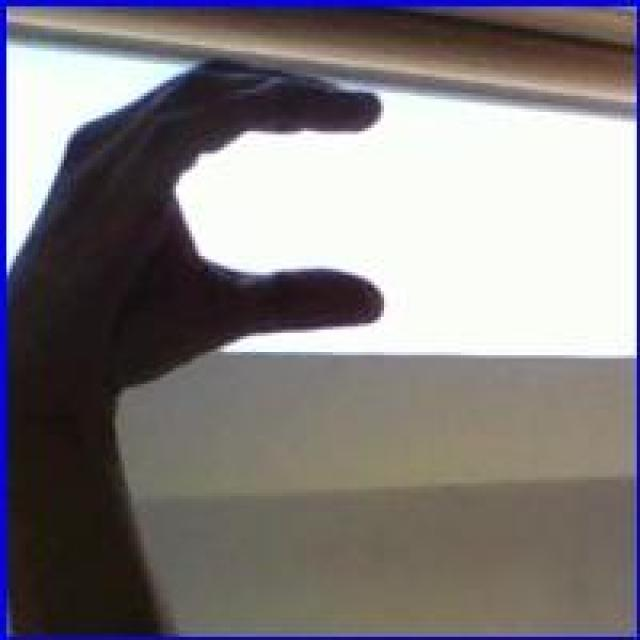C: (36, 55, 390, 378)
